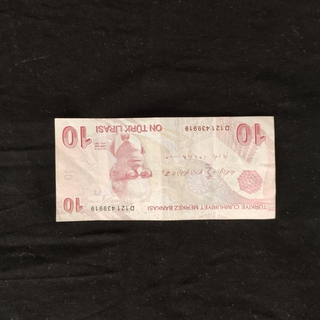10TLBack: (53, 115, 277, 223)
